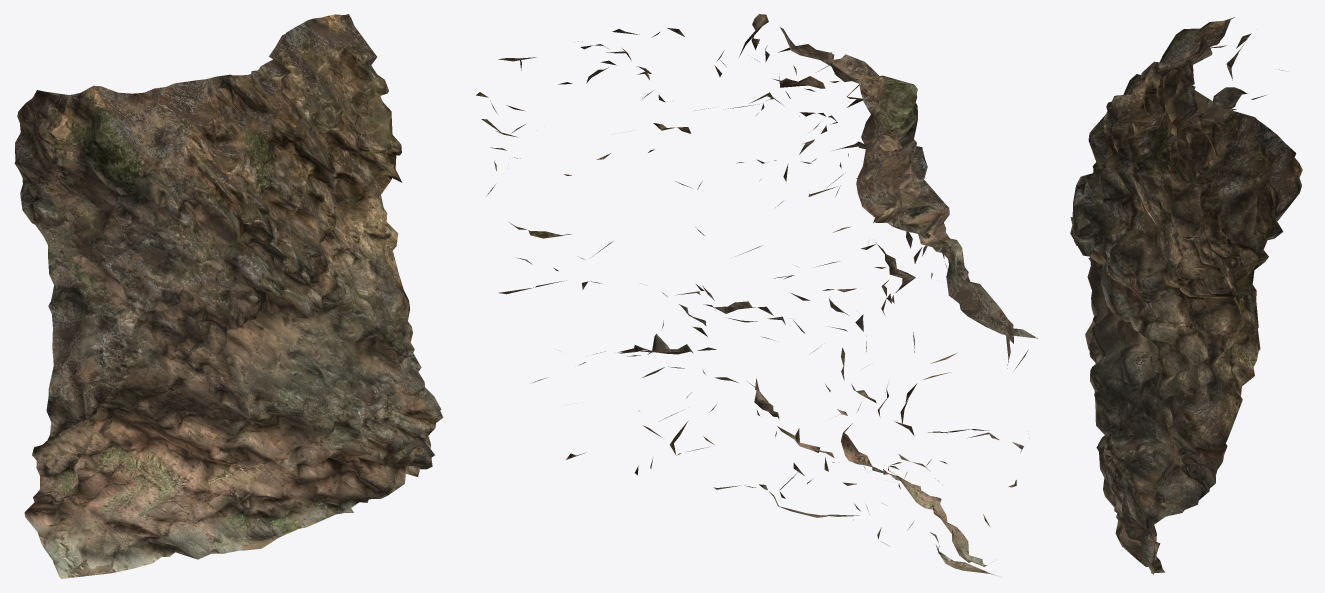
File: cliff_waterfall_face.glb
3 views of the same model, side by side, from view 1: azimuth 30°, elevation 25°; view 2: azimuth 150°, elevation 25°; view 3: azimuth 270°, elevation 25° (orthographic). The views are drawn at different scales.
Parts seen in each view (by area): view 1: mountainside; view 2: mountainside; view 3: mountainside.
Part boxes in pixels (x1,y1,x2,y2): mountainside: (14,14,443,578); mountainside: (476,14,1037,575); mountainside: (1070,17,1302,574).
Bounding box in the file's own units: 10.2 × 10.52 × 5.22.
Materials: 1 (1 with a texture image).
